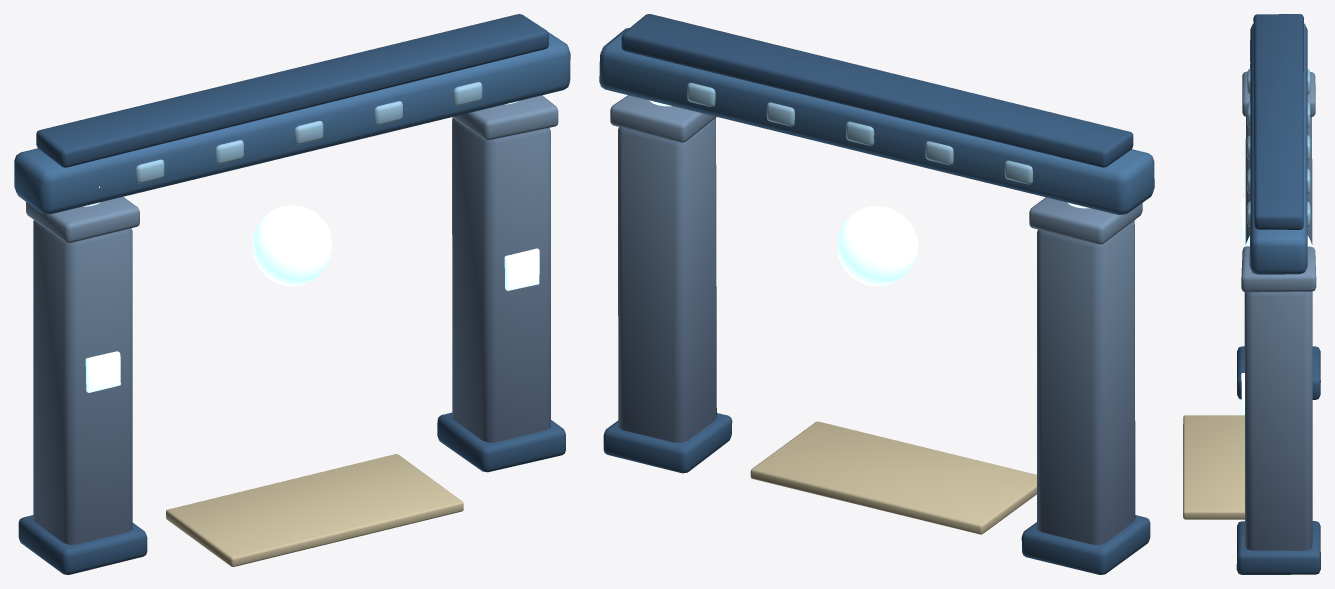
3 views of the same model, side by side, from view 1: azimuth 30°, elevation 25°; view 2: azimuth 150°, elevation 25°; view 3: azimuth 270°, elevation 25° (orthographic). The views are drawn at different scales.
Visible parts, largest first — view 1: gate_417c8515; view 2: gate_417c8515; view 3: gate_417c8515.
Boxes of the visible parts, left/top/right/bottom form: gate_417c8515: left=14, top=14, right=570, bottom=574; gate_417c8515: left=599, top=14, right=1154, bottom=574; gate_417c8515: left=1183, top=14, right=1320, bottom=574.
Size of the model in its own units: 5.48 by 4.13 by 1.44.
